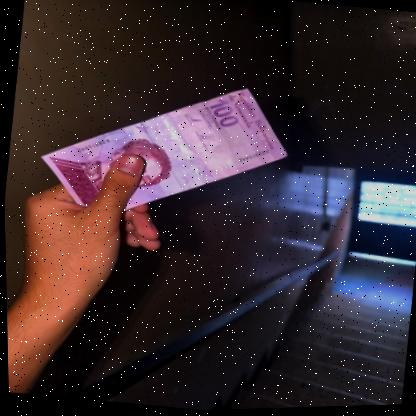vef_front: (32, 63, 297, 234)
